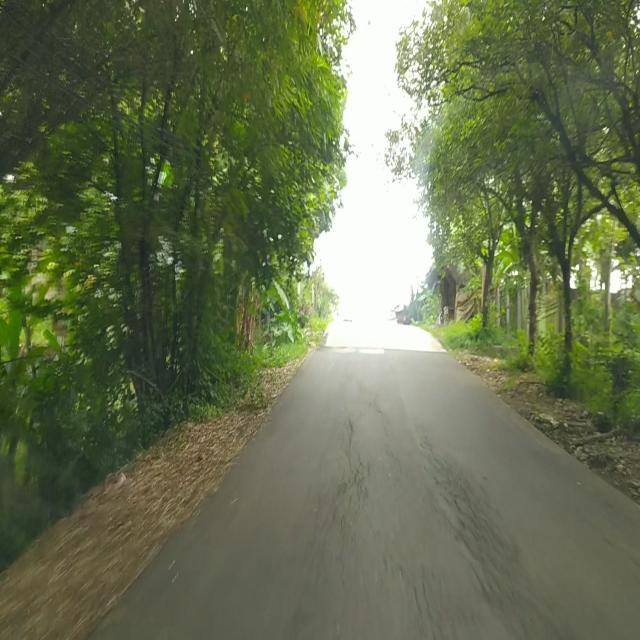Drain Hole: (422, 428, 529, 634), (329, 415, 374, 530)
